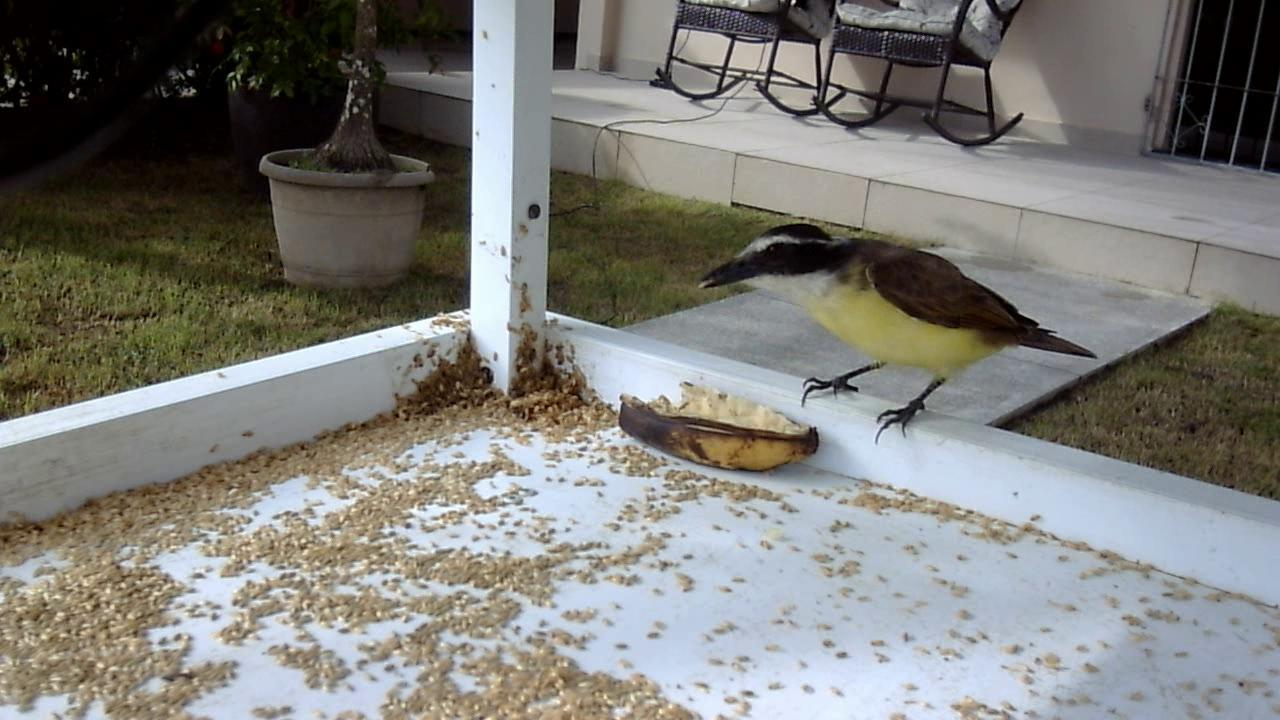bem_te_vi: (682, 203, 1108, 466)
